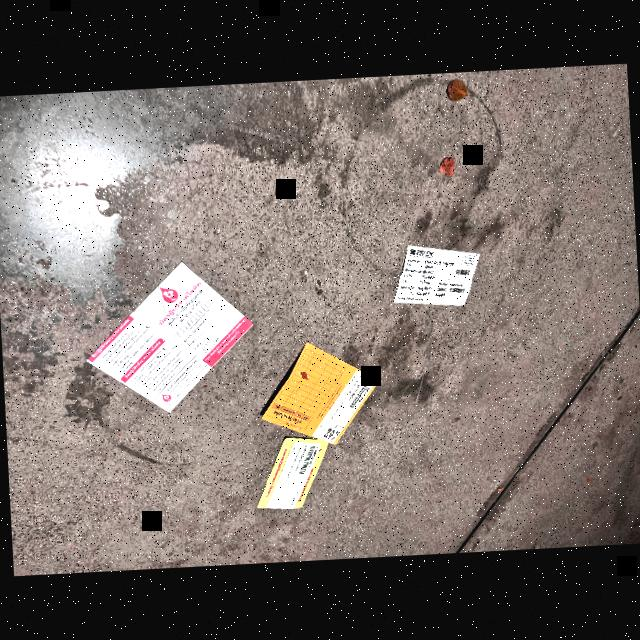scrap_paper: (76, 238, 259, 426), (261, 336, 389, 448), (248, 424, 336, 524), (388, 242, 488, 321)
